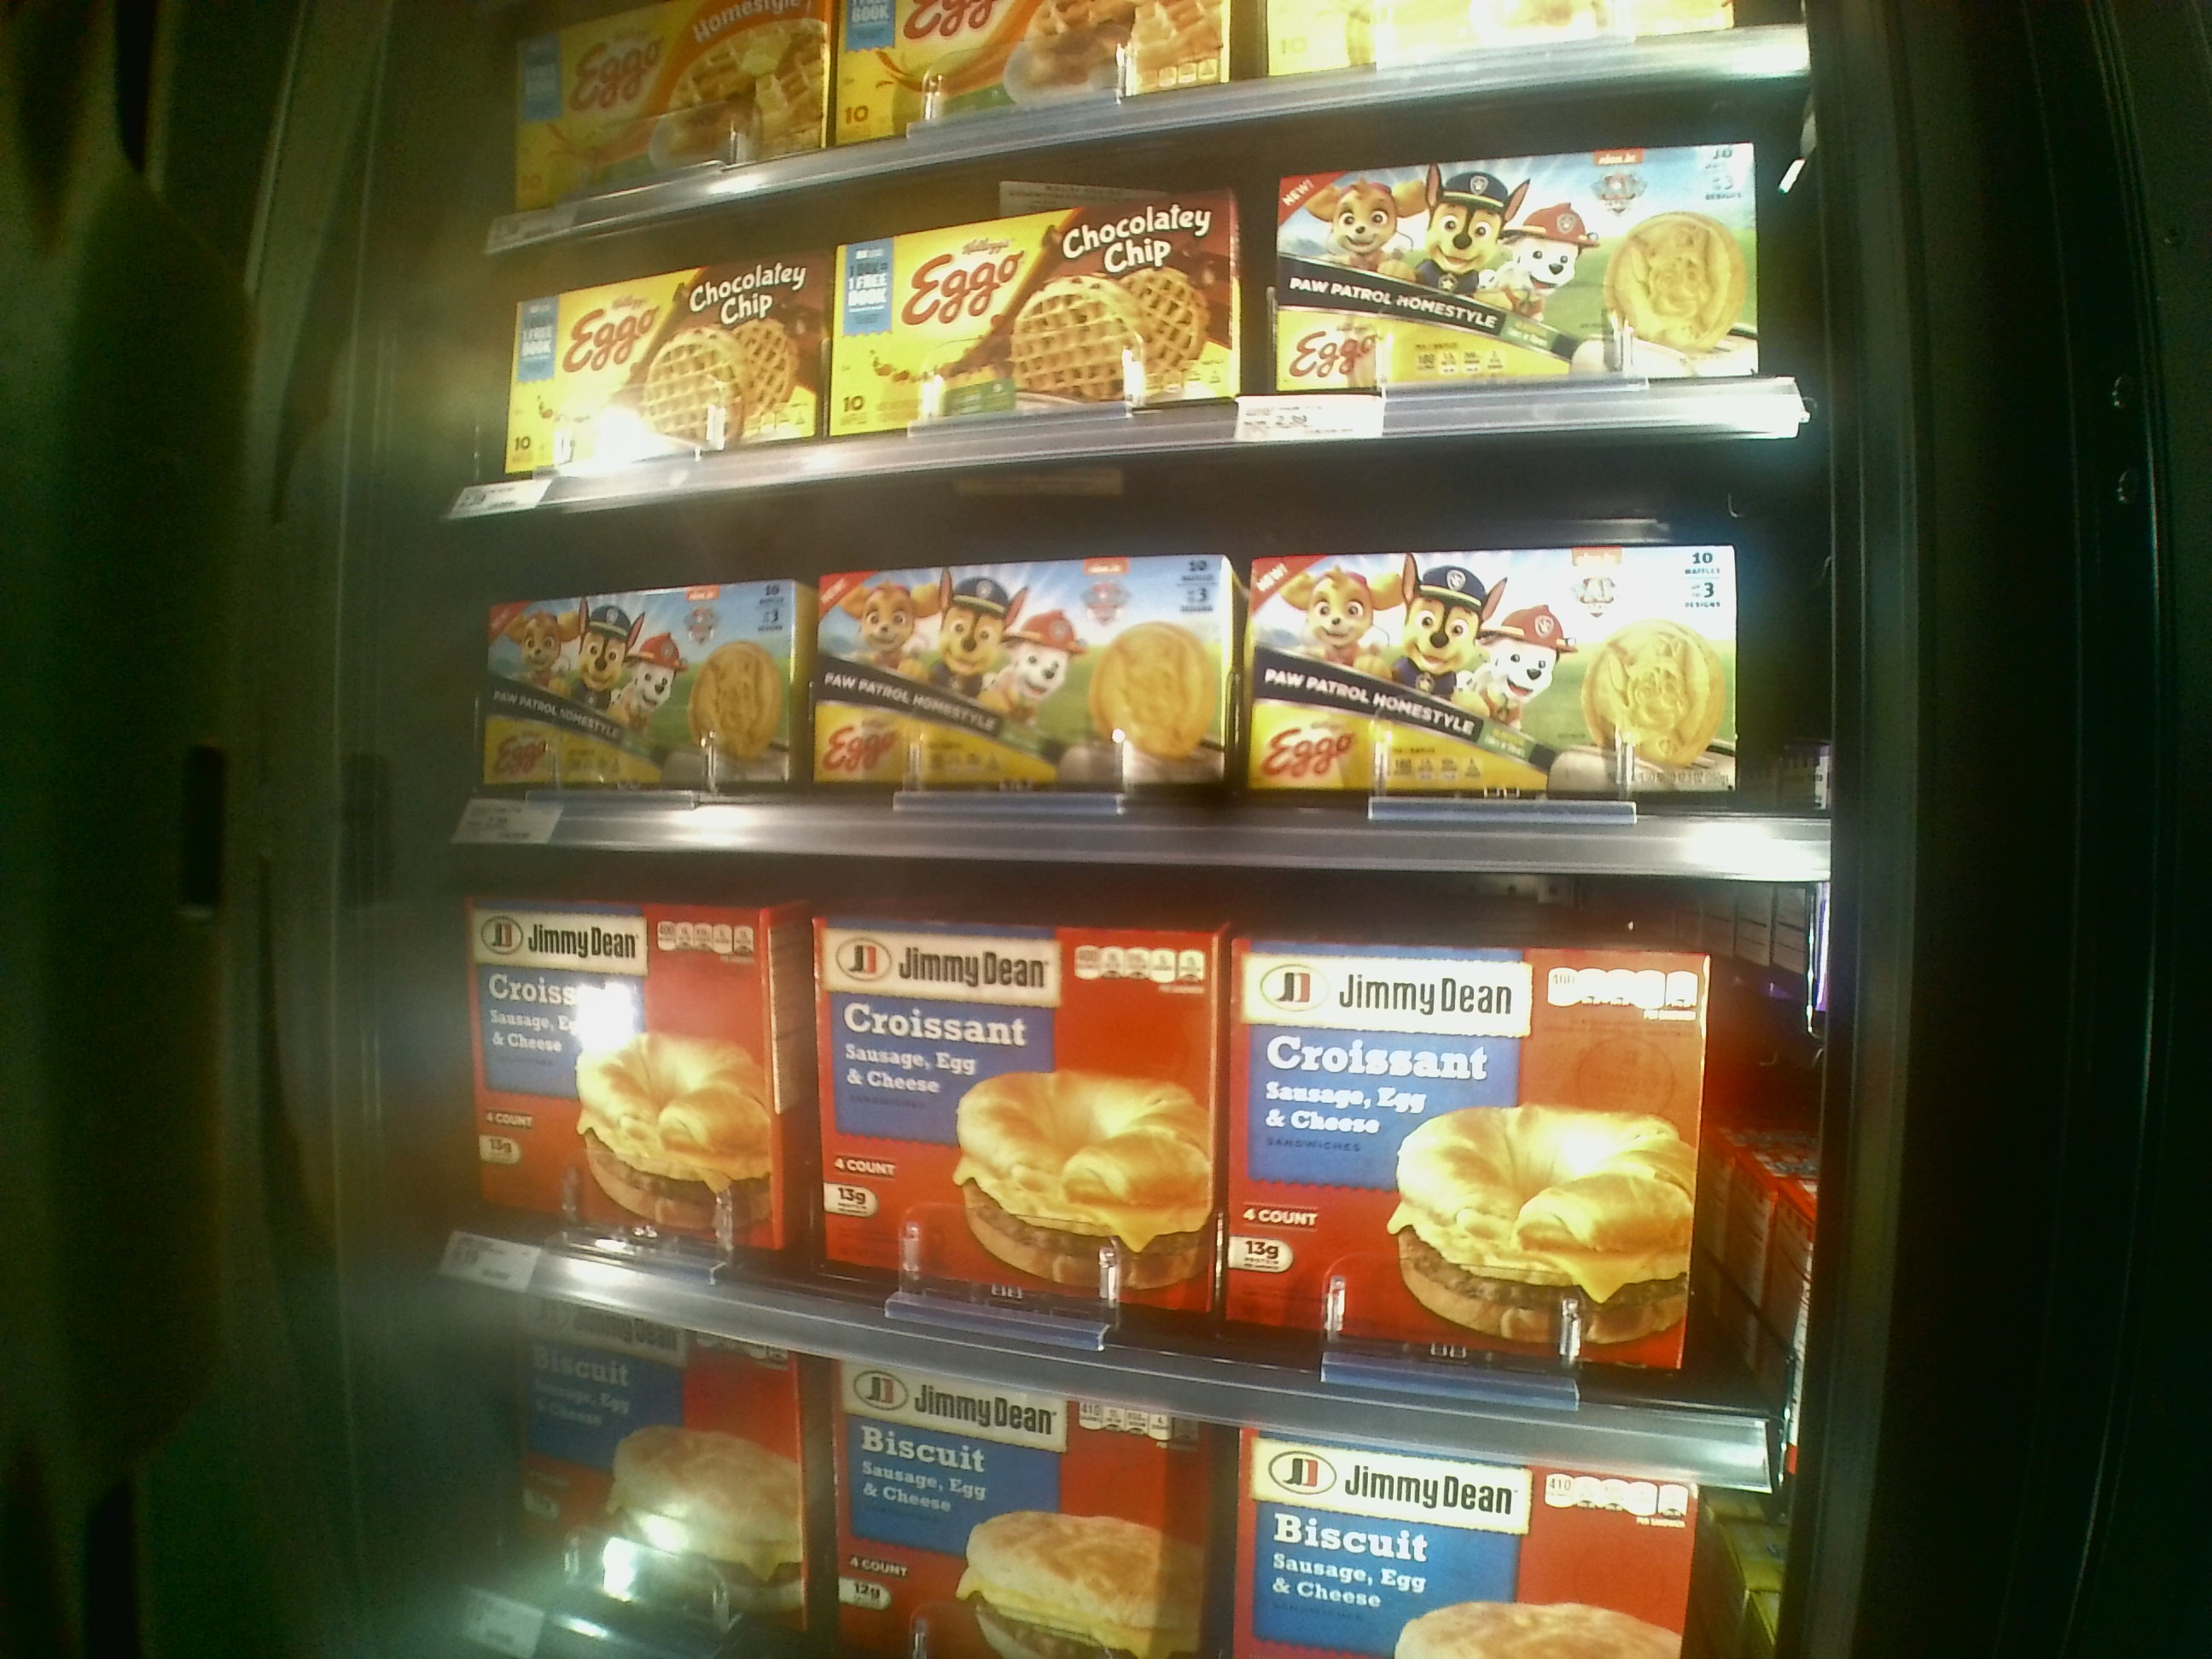shelf: (435, 819, 1836, 1493), (449, 422, 1827, 882), (435, 78, 1810, 518)
